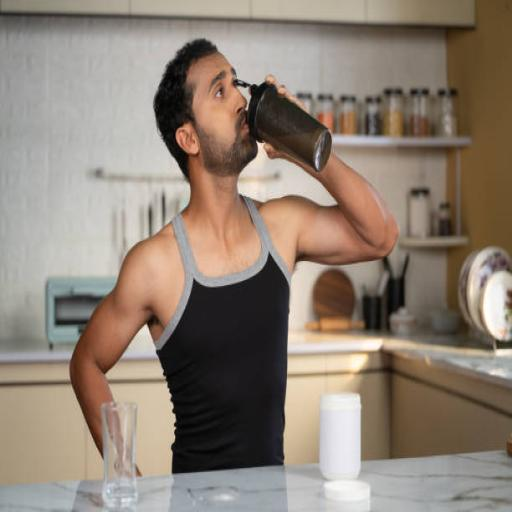Person: (62, 105, 400, 397)
no_goggle: (197, 129, 254, 165)
no_helmet: (144, 105, 243, 190)
none: (138, 223, 296, 388)
